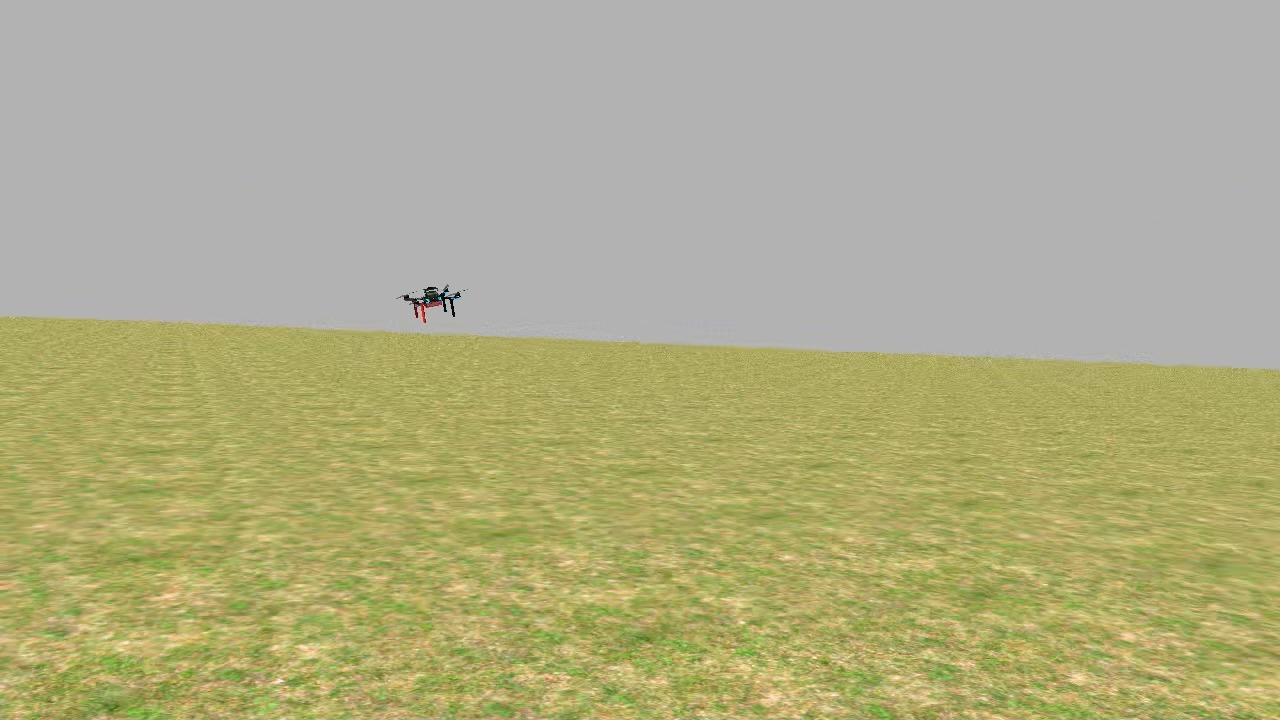UAV: (390, 274, 474, 327)
